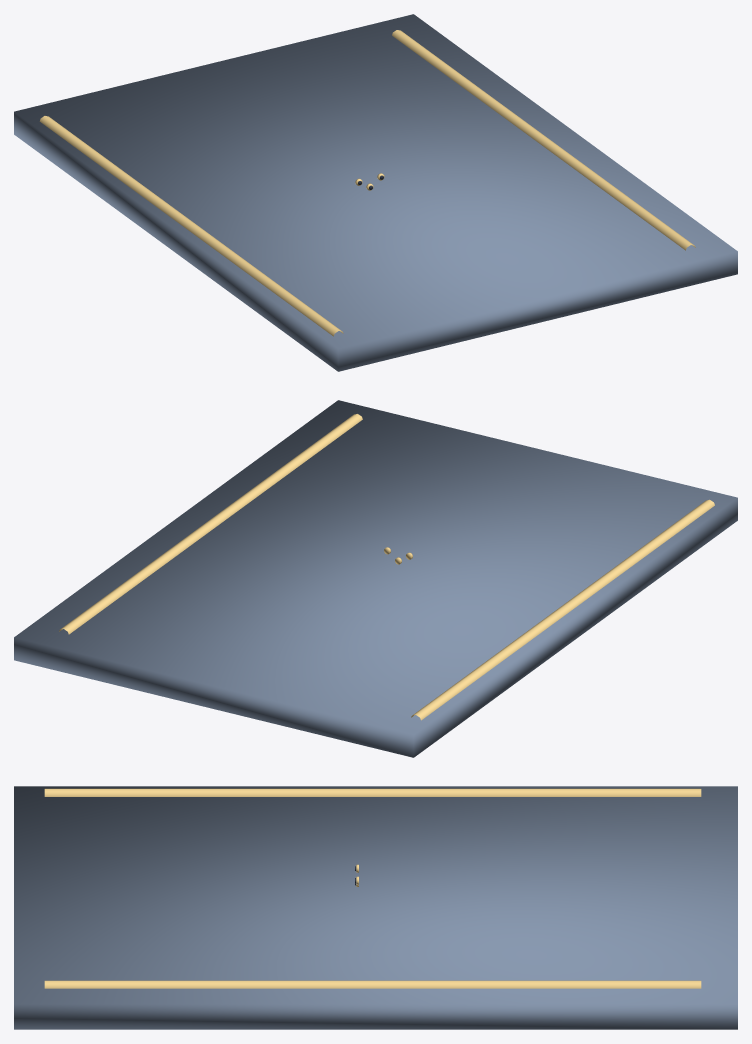
The model's file is 12_L91_ClockTimingLaboratoryBase.fbx.
3 renders of one model, top to bottom at view 1: azimuth 30°, elevation 25°; view 2: azimuth 150°, elevation 25°; view 3: azimuth 270°, elevation 25°, orthographic. The views are drawn at different scales.
Parts seen in each view (by area): view 1: L91_ClockTimingLaboratoryBase; view 2: L91_ClockTimingLaboratoryBase; view 3: L91_ClockTimingLaboratoryBase.
Part boxes in pixels (left/top/right/bottom): L91_ClockTimingLaboratoryBase: left=14, top=14, right=737, bottom=371; L91_ClockTimingLaboratoryBase: left=14, top=400, right=737, bottom=757; L91_ClockTimingLaboratoryBase: left=14, top=786, right=737, bottom=1029.
Size of the model in its own units: 8.4 by 0.755 by 11.8.
